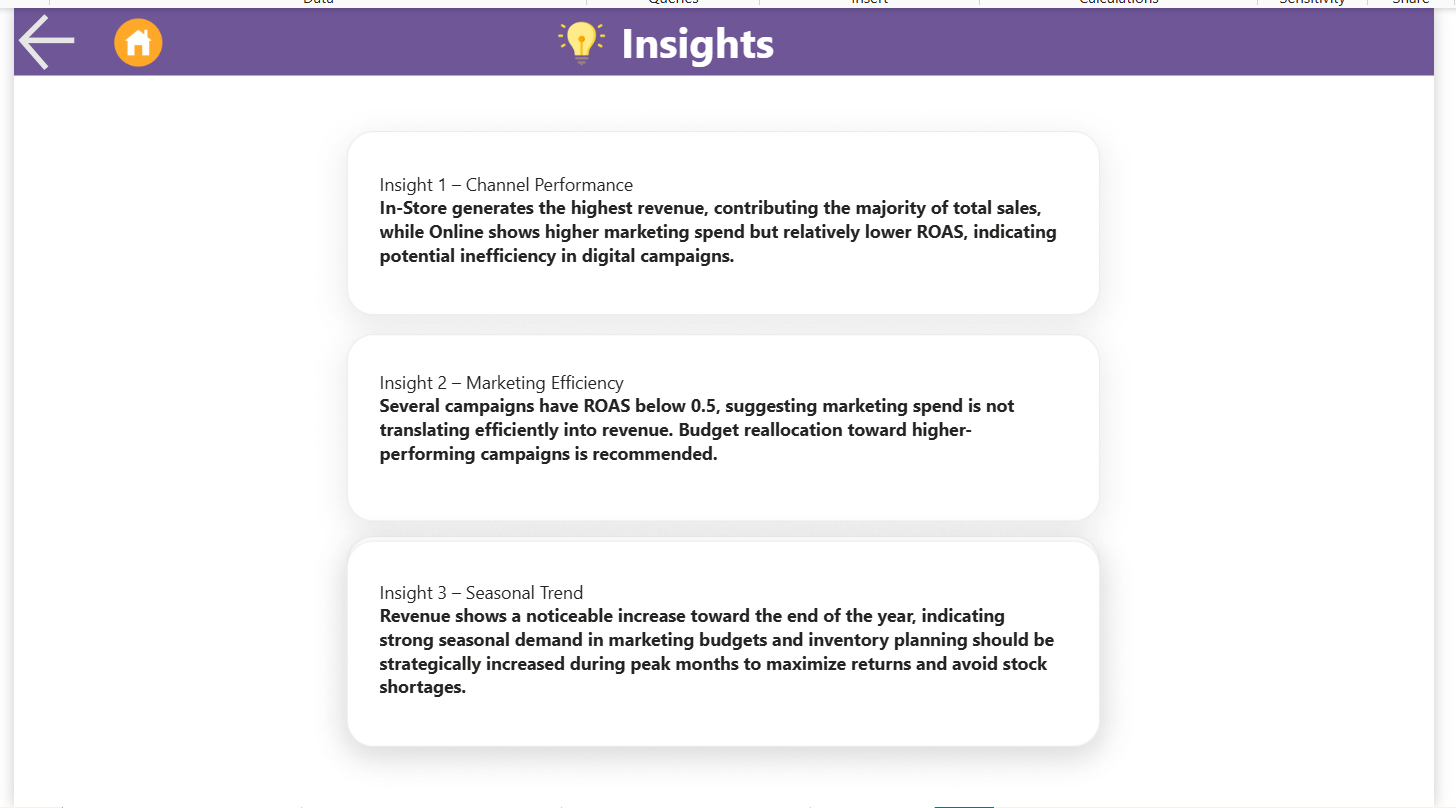

This screenshot's page, from the dashboard's own definition file:
{"tool":"powerbi","page":{"name":"Insights","canvas":[1280,720],"ordinal":3},"visuals":[{"type":"textbox","box":[325,141.8,626.2,97.2],"z":0},{"type":"textbox","box":[325,320.3,626.2,116.3],"z":1000},{"type":"textbox","box":[325,509.9,626.2,119.5],"z":2000},{"type":"textbox","box":[541.7,0,153.3,61.7],"z":3000},{"type":"image","box":[480,10,63.3,45],"z":4000},{"type":"actionButton","box":[0,0,76.7,61.7],"z":5000},{"type":"image","box":[76.7,10,70,43.3],"z":6001}]}

Visuals, with their boxes on the page's 1280x720 design canvas (x1, y1, x2, y2). These are canvas units, not pixel positions in the 1456x808 screenshot, which may show the page scaled, cropped or inside an application window:
textbox: locate(325, 142, 951, 239)
textbox: locate(325, 320, 951, 437)
textbox: locate(325, 510, 951, 629)
textbox: locate(542, 0, 695, 62)
image: locate(480, 10, 543, 55)
actionButton: locate(0, 0, 77, 62)
image: locate(77, 10, 147, 53)
